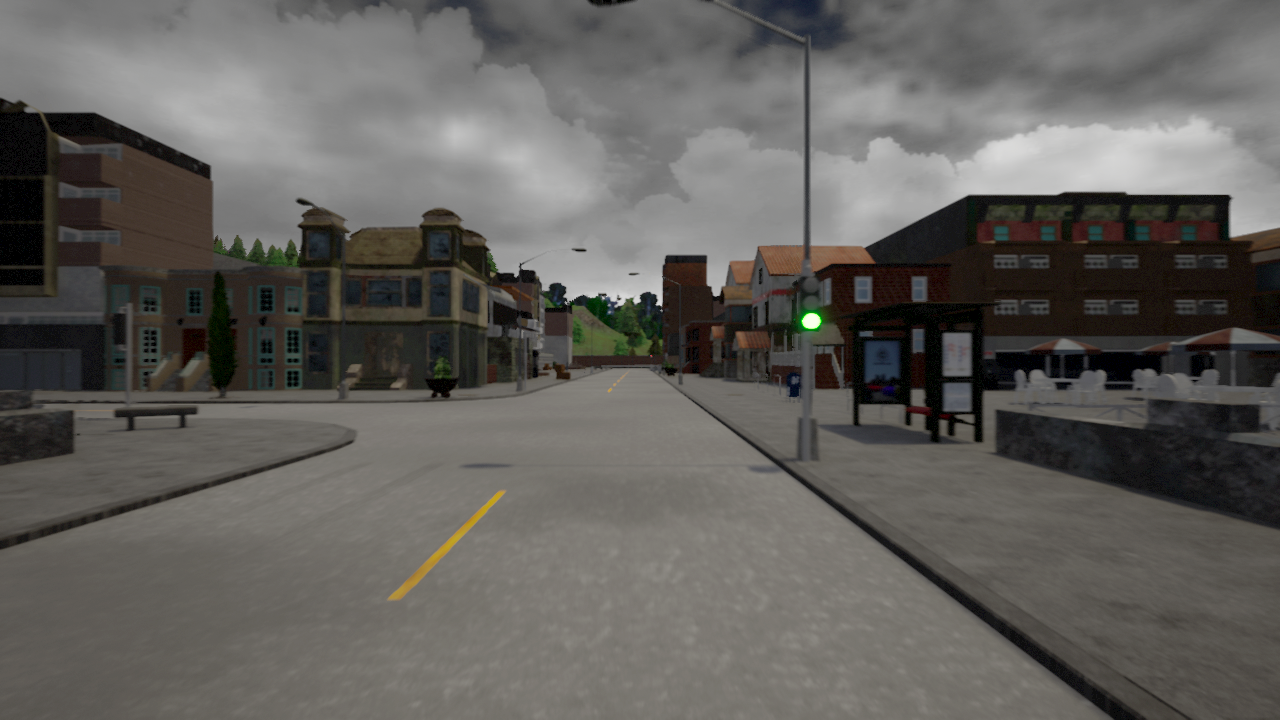green: (796, 270, 823, 334)
